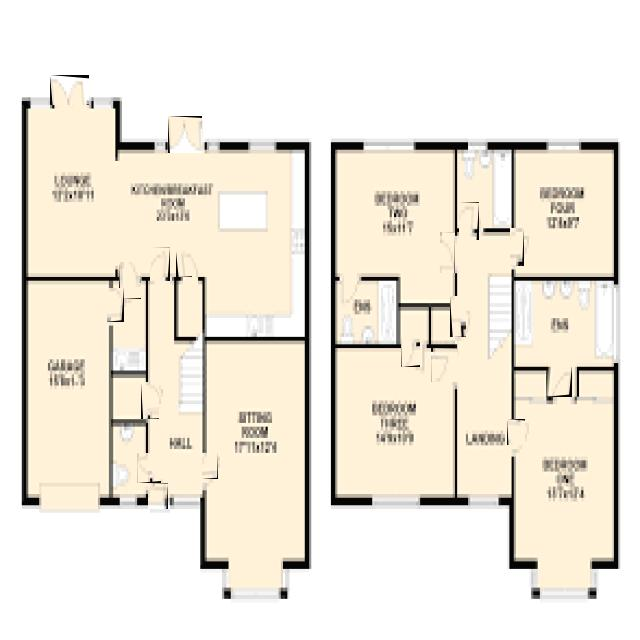door: (168, 116, 202, 153), (50, 75, 89, 105), (431, 348, 457, 382), (120, 262, 142, 299), (546, 367, 572, 397), (459, 202, 479, 240), (137, 453, 161, 483), (150, 247, 170, 281), (141, 382, 159, 419), (450, 296, 466, 337), (440, 232, 455, 273), (107, 288, 124, 322), (401, 337, 420, 367), (510, 228, 524, 266), (148, 483, 168, 509), (507, 420, 525, 446), (176, 251, 192, 277), (202, 453, 218, 479)
